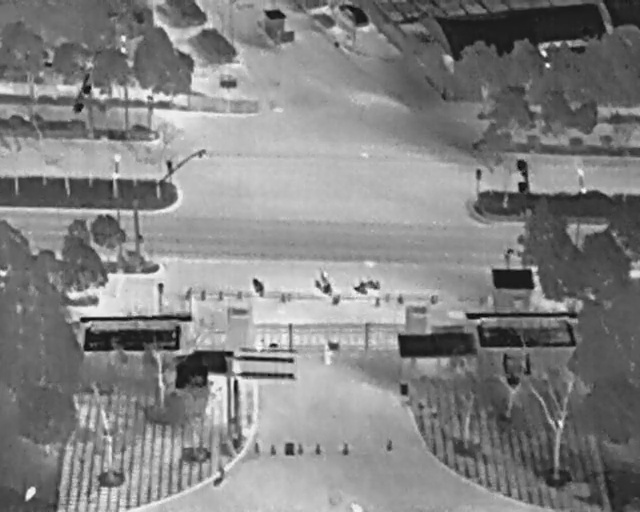Bicycle: (310, 270, 338, 301), (354, 279, 382, 295)
Car: (336, 0, 373, 32)
Person: (323, 343, 333, 367)
